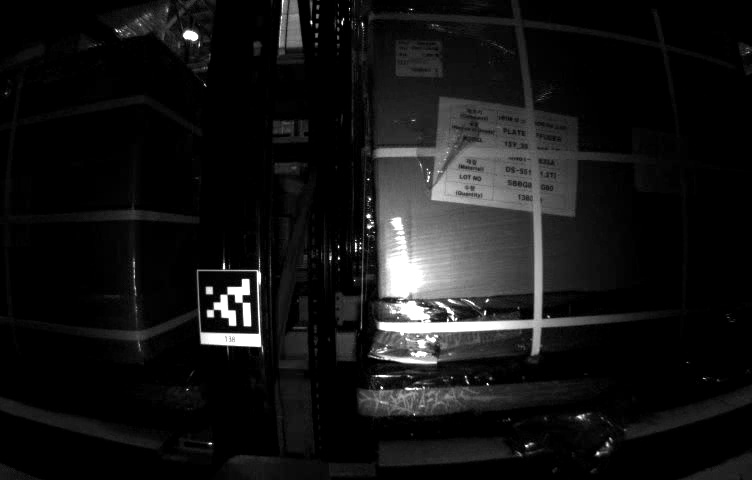True Barcode: (396, 39, 442, 77)
